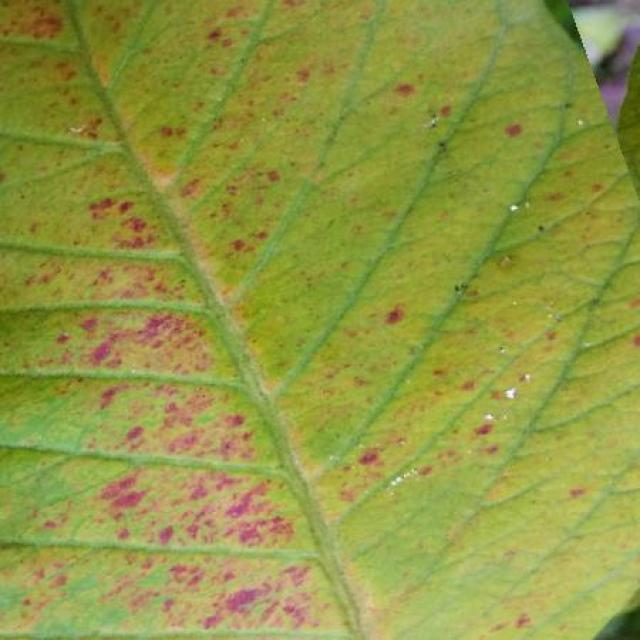Red Rust: (0, 0, 640, 639)
